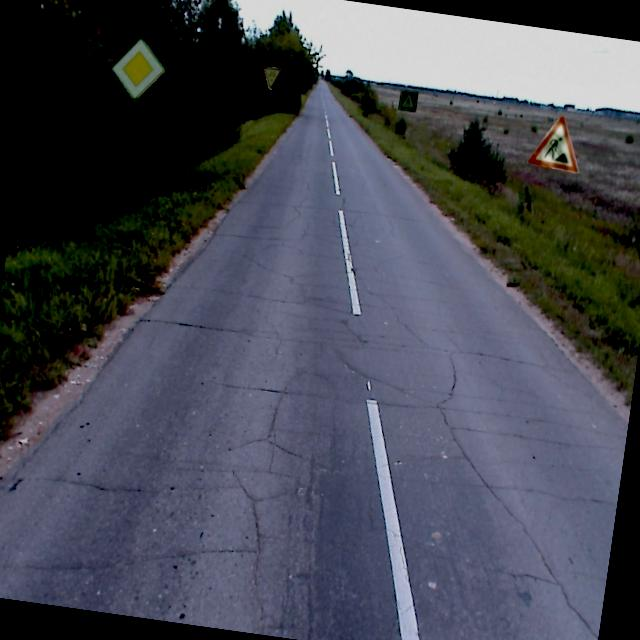road: (0, 80, 628, 640)
